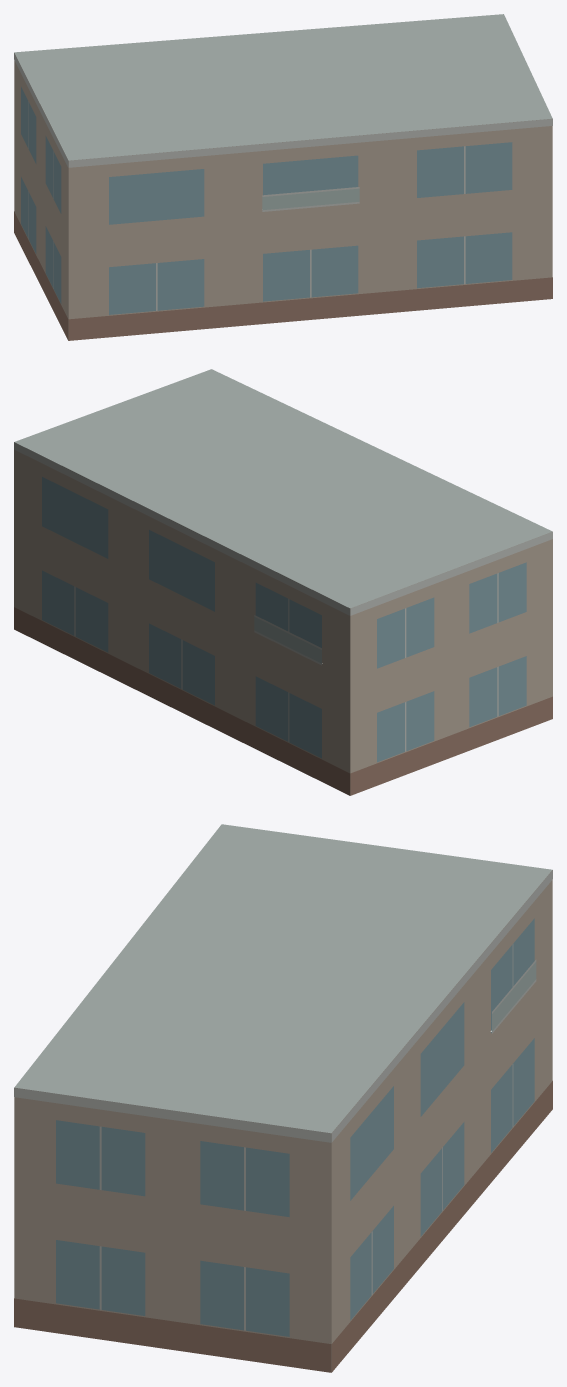
Rendered from survey-upis-32848007.glb.
The picture shows the model from 3 angles, top to bottom: view 1: azimuth 30°, elevation 25°; view 2: azimuth 150°, elevation 25°; view 3: azimuth 270°, elevation 25°; orthographic projection. The views are drawn at different scales.
Parts seen in each view (by area): view 1: survey-upis-32848007.tmp; view 2: survey-upis-32848007.tmp; view 3: survey-upis-32848007.tmp.
Part boxes in pixels (<box>): survey-upis-32848007.tmp: <box>14,14,552,340</box>; survey-upis-32848007.tmp: <box>14,369,552,795</box>; survey-upis-32848007.tmp: <box>14,824,552,1372</box>.
Bounding box in the file's own units: 16.9 × 6.1 × 12.44.
